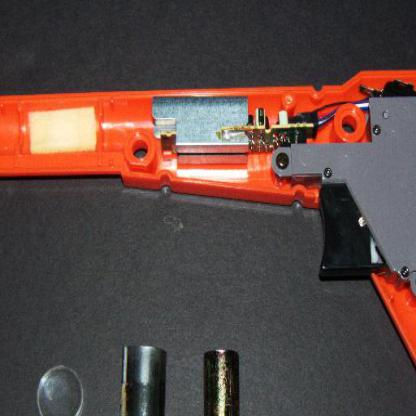gun: (0, 55, 415, 415)
